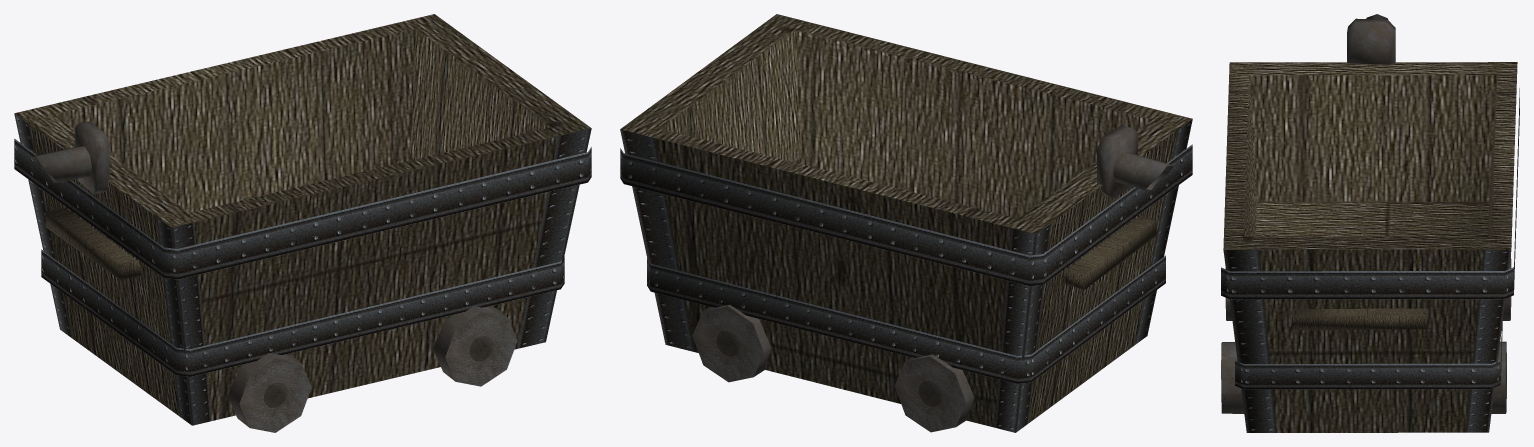
Rendered from cart_2.glb.
3 views of the same model, side by side, from view 1: azimuth 30°, elevation 25°; view 2: azimuth 150°, elevation 25°; view 3: azimuth 270°, elevation 25° (orthographic). The views are drawn at different scales.
Parts seen in each view (by area): view 1: wall_wood1.jpg__, modern_mine_beam.jpg__, metal_rusted_circle.jpg__, metal_rusted.jpg__; view 2: wall_wood1.jpg__, modern_mine_beam.jpg__, metal_rusted_circle.jpg__, metal_rusted.jpg__; view 3: wall_wood1.jpg__, modern_mine_beam.jpg__, metal_rusted.jpg__.
Boxes of the visible parts, x1,y1,x2,y2 form: wall_wood1.jpg__: (14, 14, 591, 420); modern_mine_beam.jpg__: (14, 113, 591, 425); metal_rusted_circle.jpg__: (239, 312, 517, 432); metal_rusted.jpg__: (31, 121, 506, 427); wall_wood1.jpg__: (620, 14, 1192, 427); modern_mine_beam.jpg__: (620, 119, 1192, 432); metal_rusted_circle.jpg__: (692, 306, 965, 432); metal_rusted.jpg__: (703, 125, 1173, 426); wall_wood1.jpg__: (1223, 62, 1517, 432); modern_mine_beam.jpg__: (1221, 88, 1519, 432); metal_rusted.jpg__: (1221, 14, 1510, 413).
Size of the model in its own units: 6.18 by 3.38 by 3.63.
Materials: 4 (4 with a texture image).
